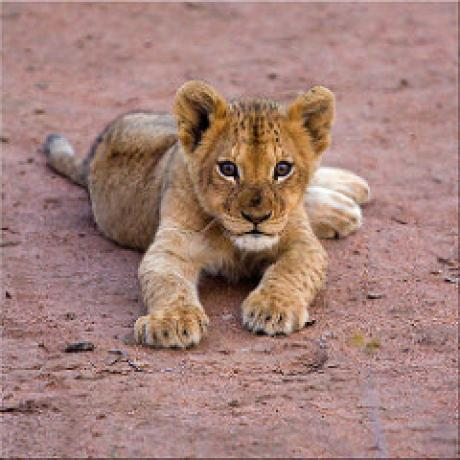Lion: (44, 73, 374, 352)
